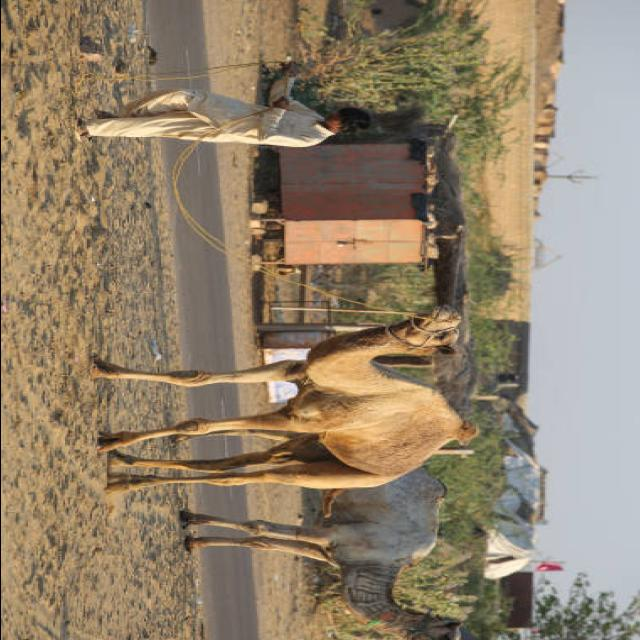civilian: (77, 90, 371, 147)
